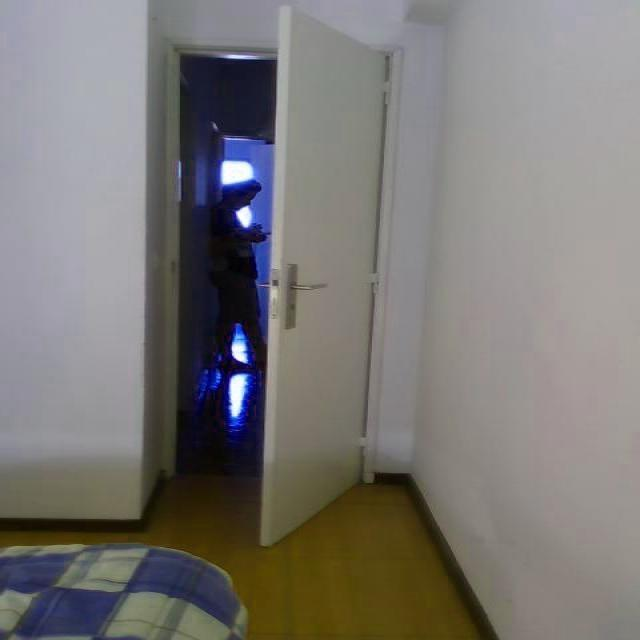door: (258, 5, 389, 547)
